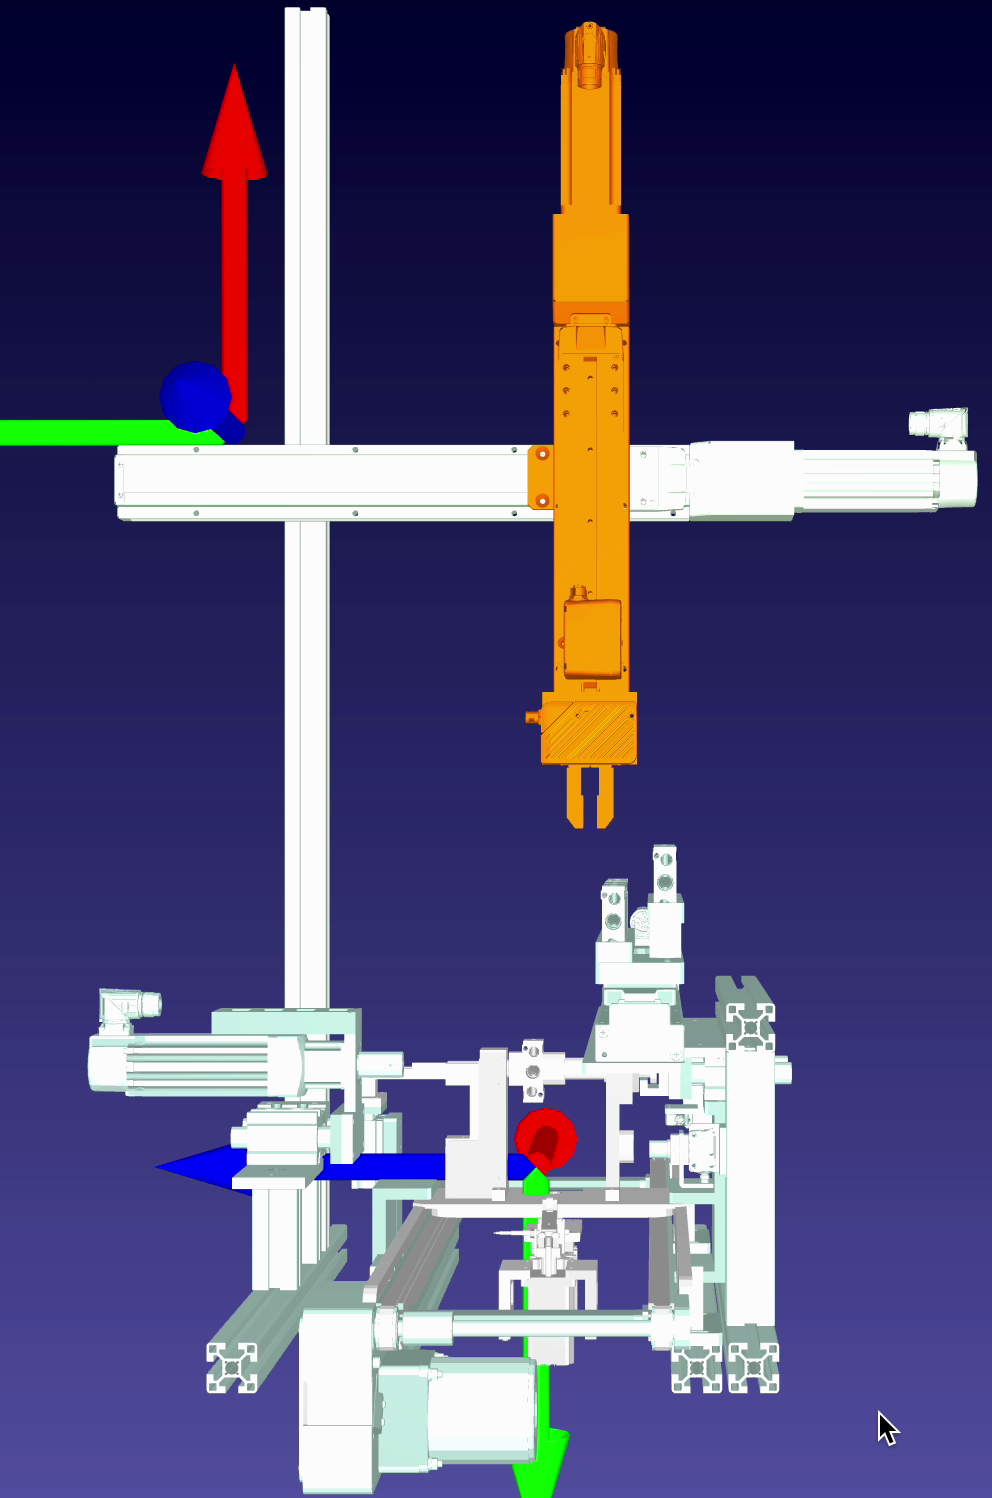Gripper: (527, 681, 652, 837)
